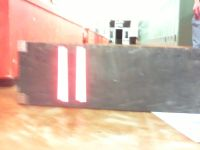switch: (75, 46, 87, 103), (57, 46, 69, 102)
